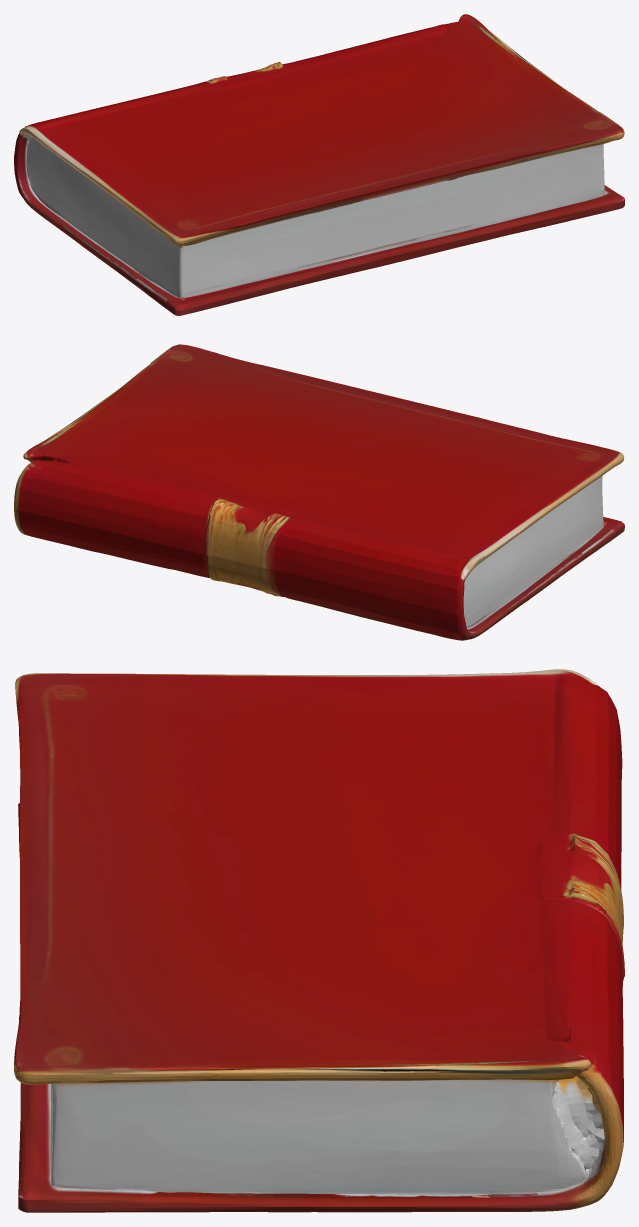
The picture shows the model from 3 angles, top to bottom: view 1: azimuth 30°, elevation 25°; view 2: azimuth 150°, elevation 25°; view 3: azimuth 270°, elevation 25°; orthographic projection. The views are drawn at different scales.
Parts seen in each view (by area): view 1: notebook_0.obj; view 2: notebook_0.obj; view 3: notebook_0.obj.
Part boxes in pixels (box(x1,y1,x2,y2)): notebook_0.obj: box(14, 14, 624, 315); notebook_0.obj: box(14, 344, 624, 640); notebook_0.obj: box(14, 669, 624, 1212).
Size of the model in its own units: 0.22 by 0.0389 by 0.1413.
Materials: 1 (1 with a texture image).
